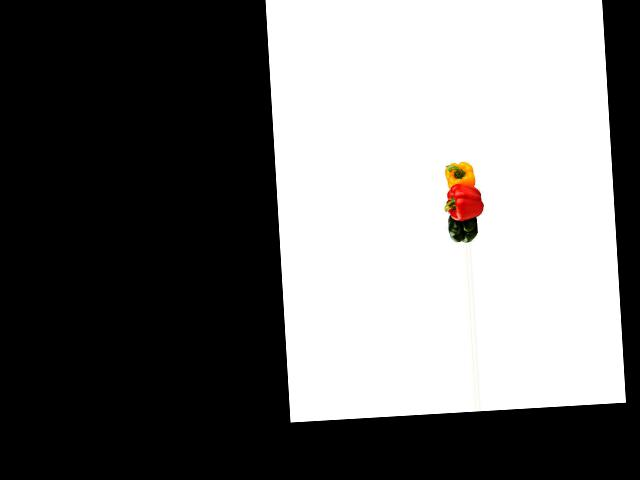bell_pepper: (441, 159, 481, 191)
